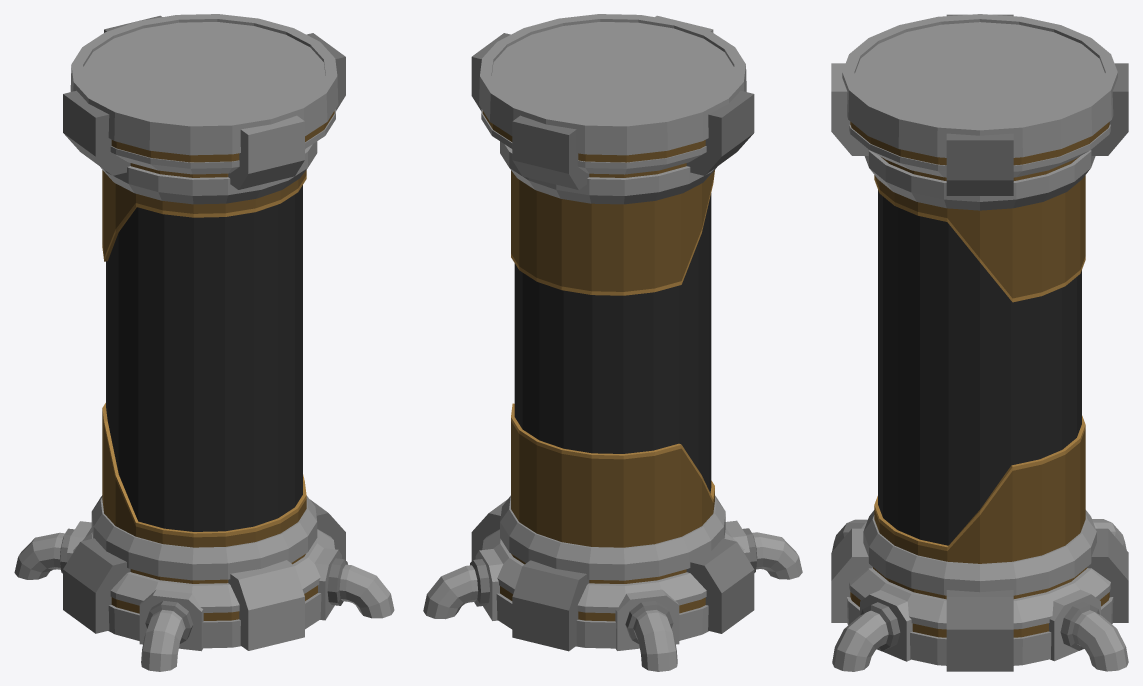
File: Props_Pod.glb
3 renders of one model, left to right at view 1: azimuth 30°, elevation 25°; view 2: azimuth 150°, elevation 25°; view 3: azimuth 270°, elevation 25°, orthographic. The views are drawn at different scales.
Visible parts, largest first — view 1: Main, Glass, DarkGrey, DarkAccent, Accent; view 2: Main, DarkAccent, Glass, DarkGrey, Accent; view 3: Main, Glass, DarkAccent, DarkGrey, Accent.
Boxes of the visible parts, <box> form: Main: <box>14,14,394,671</box>; Glass: <box>106,185,302,531</box>; DarkGrey: <box>60,15,347,643</box>; DarkAccent: <box>102,111,334,620</box>; Accent: <box>102,175,306,537</box>; Main: <box>423,14,802,671</box>; DarkAccent: <box>482,111,714,621</box>; Glass: <box>514,193,711,493</box>; DarkGrey: <box>470,33,757,651</box>; Accent: <box>511,170,714,502</box>; Main: <box>831,14,1128,671</box>; Glass: <box>878,190,1081,545</box>; DarkAccent: <box>850,121,1109,637</box>; DarkGrey: <box>861,14,1128,671</box>; Accent: <box>874,176,1085,550</box>.
Bounding box in the file's own units: 1.81 × 3.61 × 1.81.
